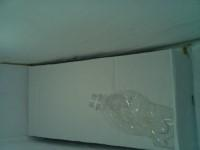bottle: (87, 0, 178, 45)
